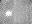person: (5, 10, 11, 15)
